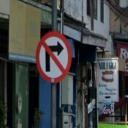NoVirarDireita: (34, 28, 74, 86)
